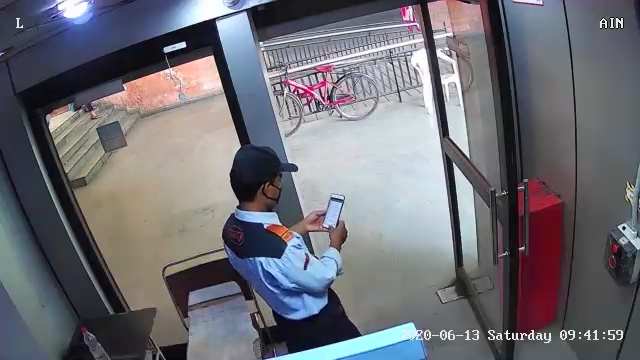open: (391, 7, 552, 358)
